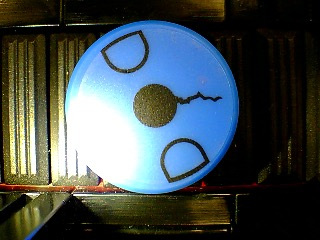CRACK: (64, 19, 240, 194)
